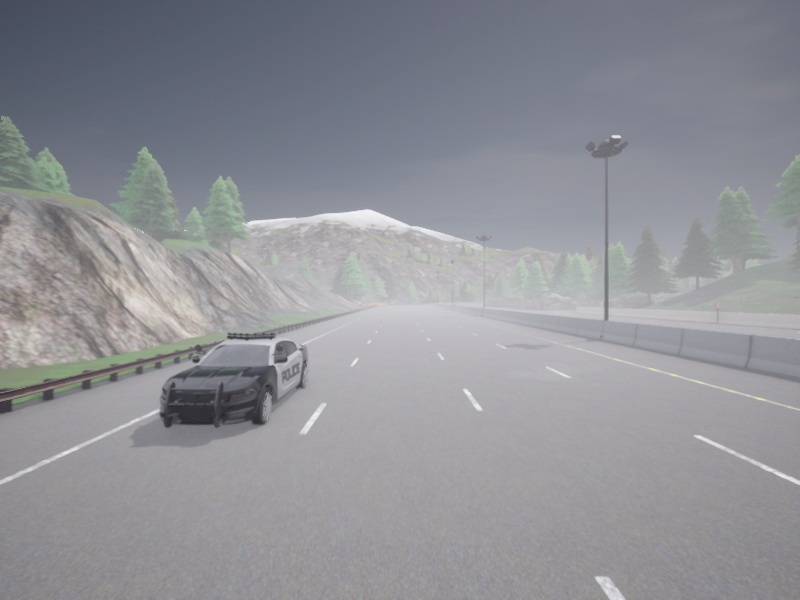vehicle: (159, 333, 308, 427), (453, 302, 455, 304)
